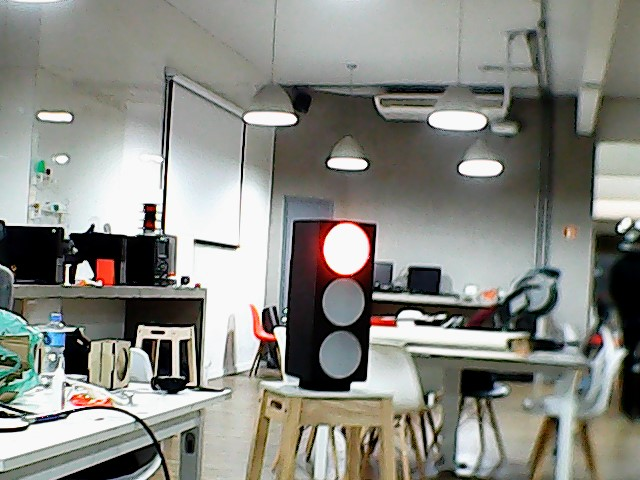vermelho: (283, 211, 379, 383)
